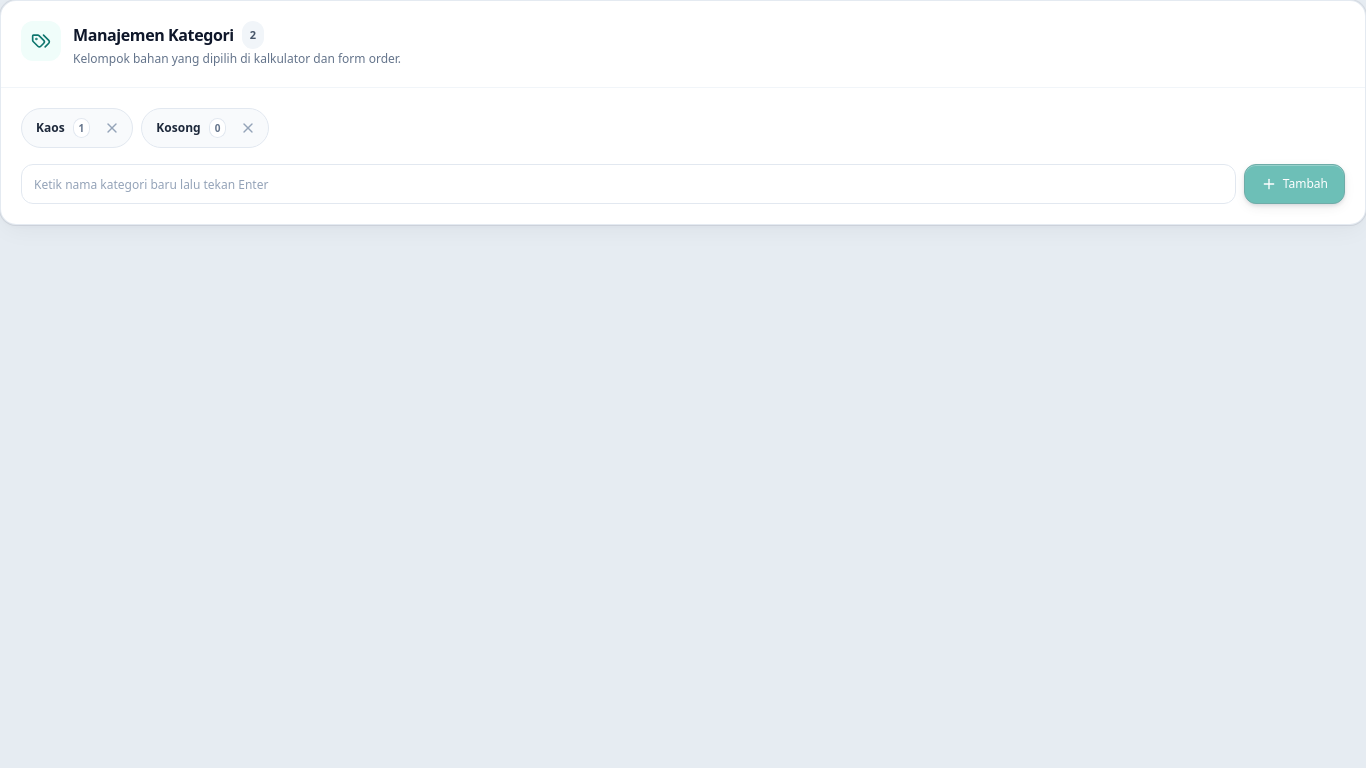
KategoriSection › menghapus kategori yang masih dipakai bahan diblokir tanpa tombol konfirmasi
This screenshot has width=1366, height=768.
Click the button named "Hapus kategori Kaos".
click(112, 128)  # box [92, 108, 132, 148]
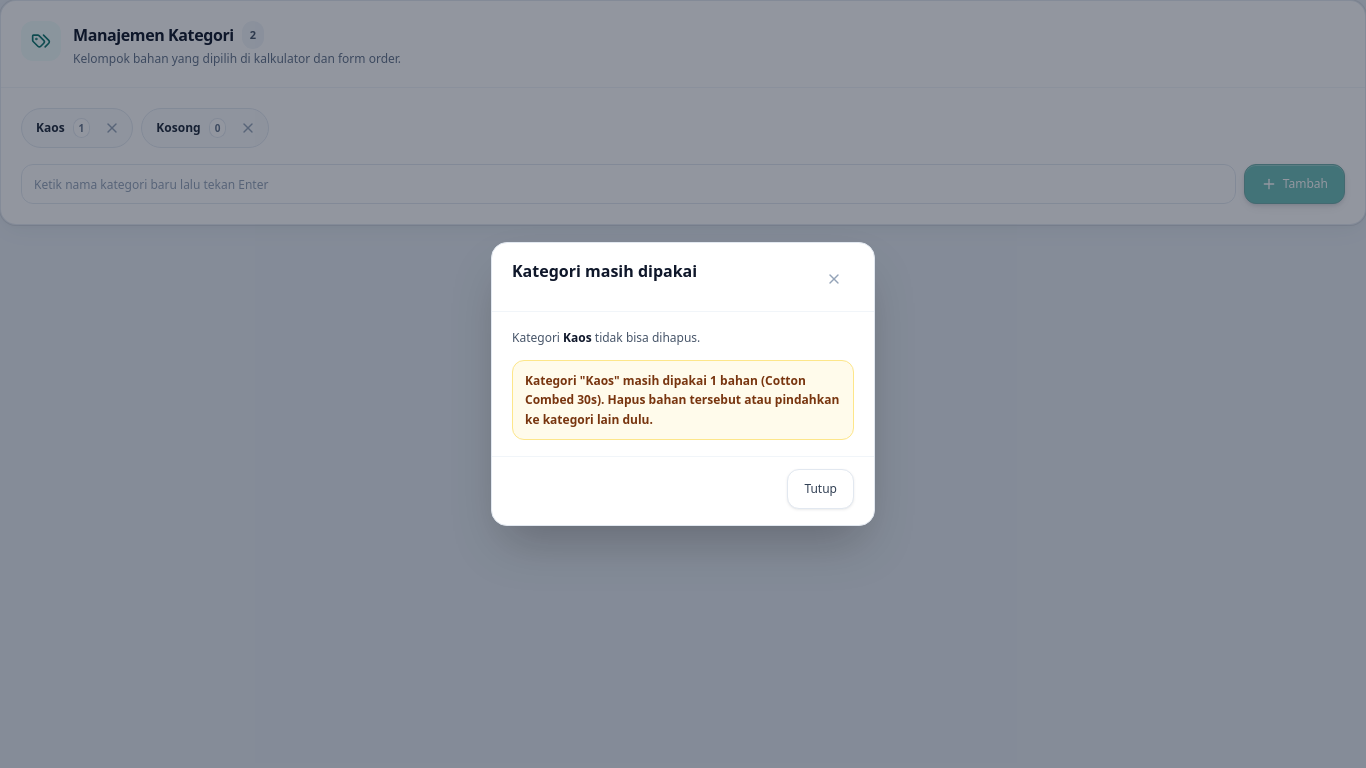
Expected: the text "masih dipakai 1 bahan" is shown, [525, 372, 839, 428]
